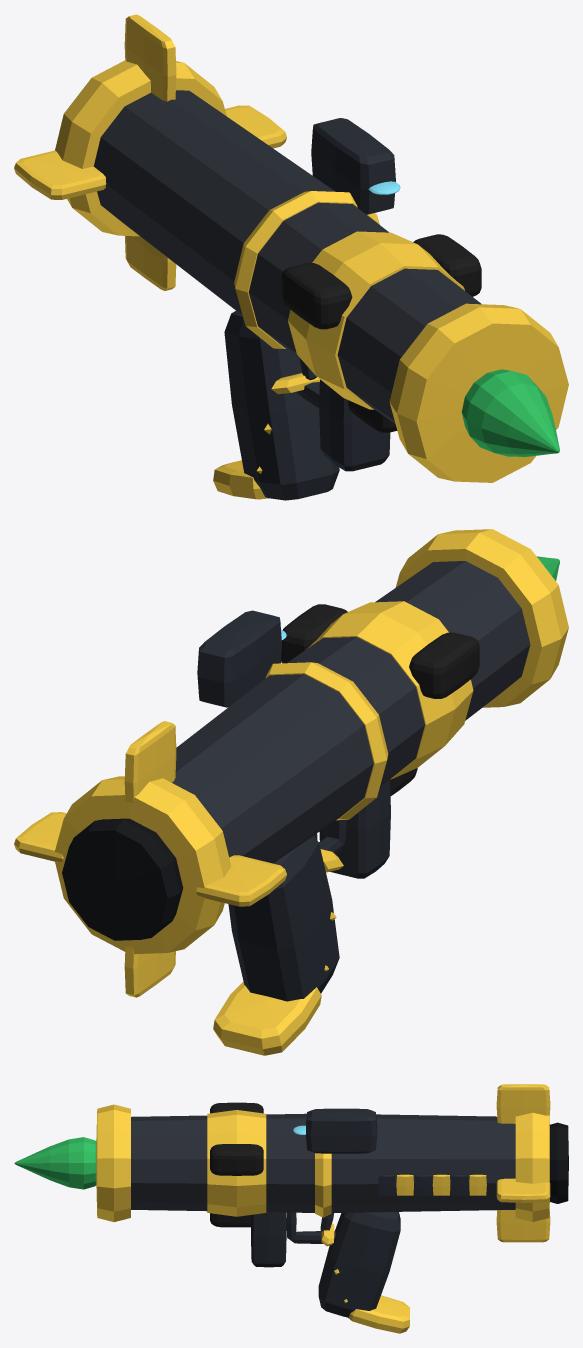
Rendered from g-x-nuke.glb.
The picture shows the model from 3 angles, top to bottom: view 1: azimuth 30°, elevation 25°; view 2: azimuth 150°, elevation 25°; view 3: azimuth 270°, elevation 25°; orthographic projection. The views are drawn at different scales.
Visible parts, largest first — view 1: gun; view 2: gun; view 3: gun.
Boxes of the visible parts, box(x1,y1,x2,y2) form: gun: box(14, 14, 568, 500); gun: box(14, 529, 568, 1055); gun: box(14, 1084, 568, 1333).
Size of the model in its own units: 0.38 by 0.5836 by 1.22.
